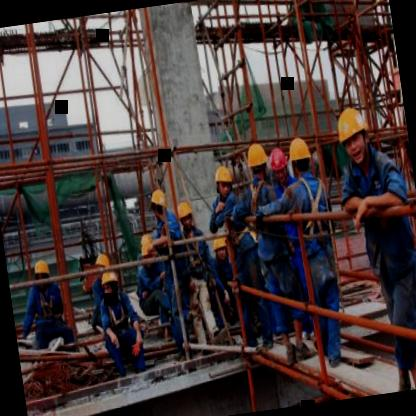helmet: (330, 101, 374, 168), (286, 132, 314, 179), (244, 138, 271, 184), (267, 146, 291, 188), (210, 164, 235, 202), (147, 186, 170, 224), (174, 196, 196, 232), (99, 268, 122, 302), (209, 228, 232, 262), (32, 258, 52, 292), (94, 249, 112, 280)
